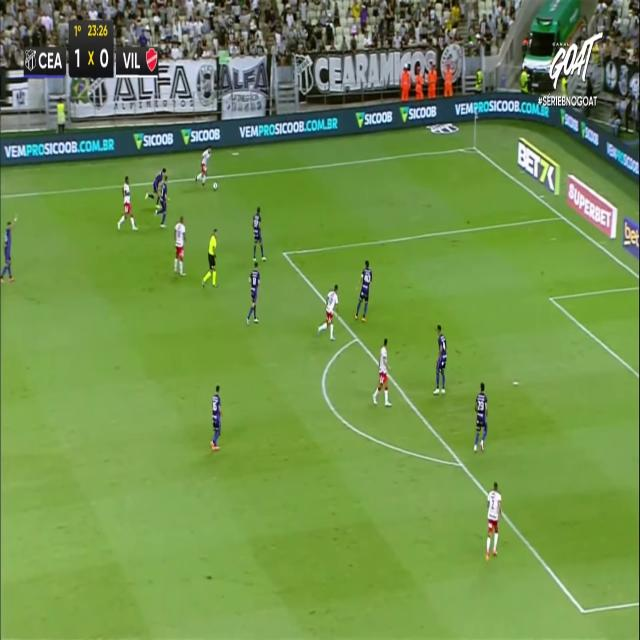ball: (211, 178, 219, 195)
player: (372, 337, 392, 406), (486, 481, 502, 557), (354, 259, 372, 321), (318, 284, 338, 339), (117, 175, 137, 230), (473, 381, 488, 452), (0, 218, 15, 282), (157, 173, 173, 232), (433, 323, 446, 394), (246, 261, 260, 323), (145, 167, 168, 204), (252, 205, 267, 261), (210, 384, 222, 450), (174, 214, 186, 275), (196, 145, 211, 186)
referee: (201, 227, 217, 288)
